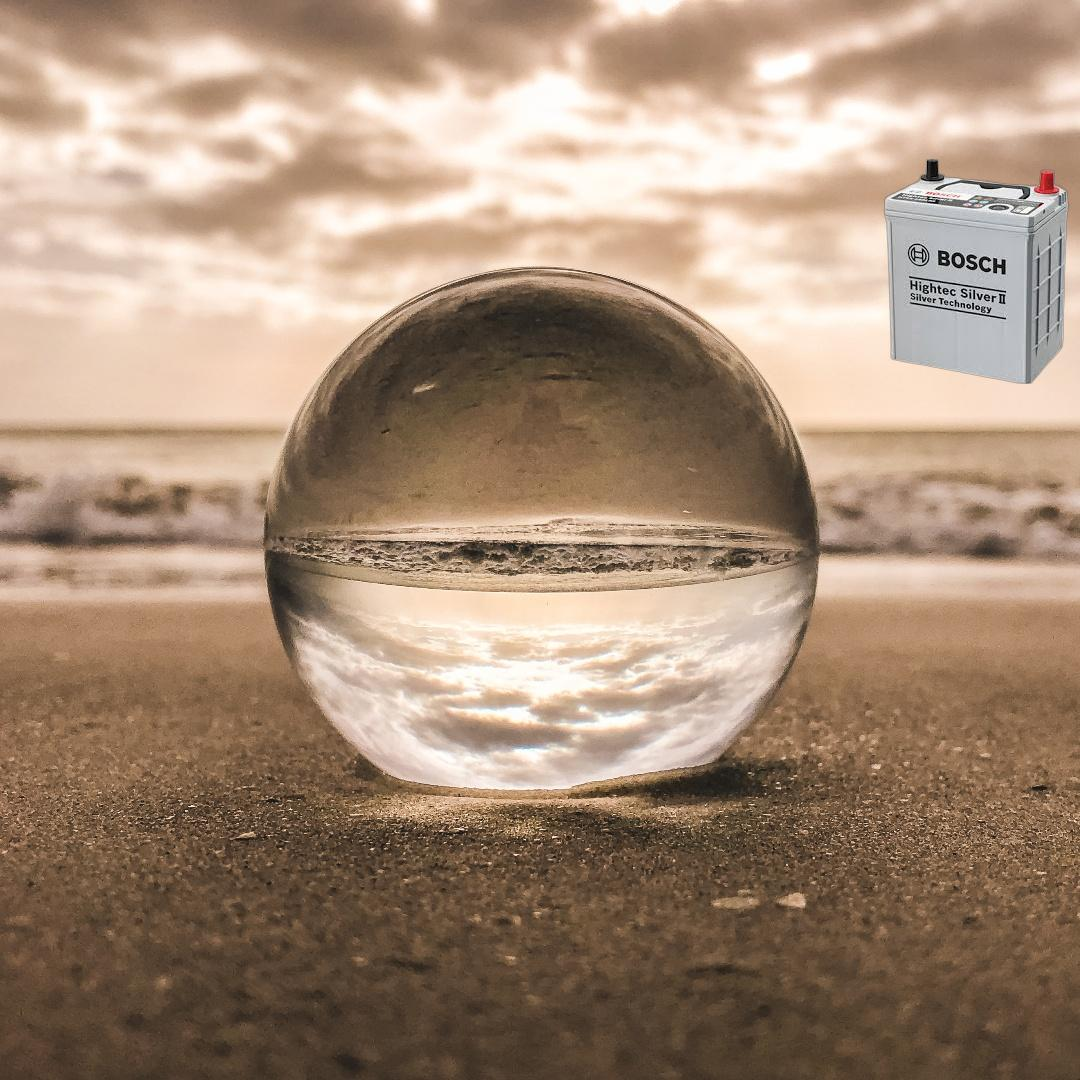battery: (881, 159, 1071, 384)
